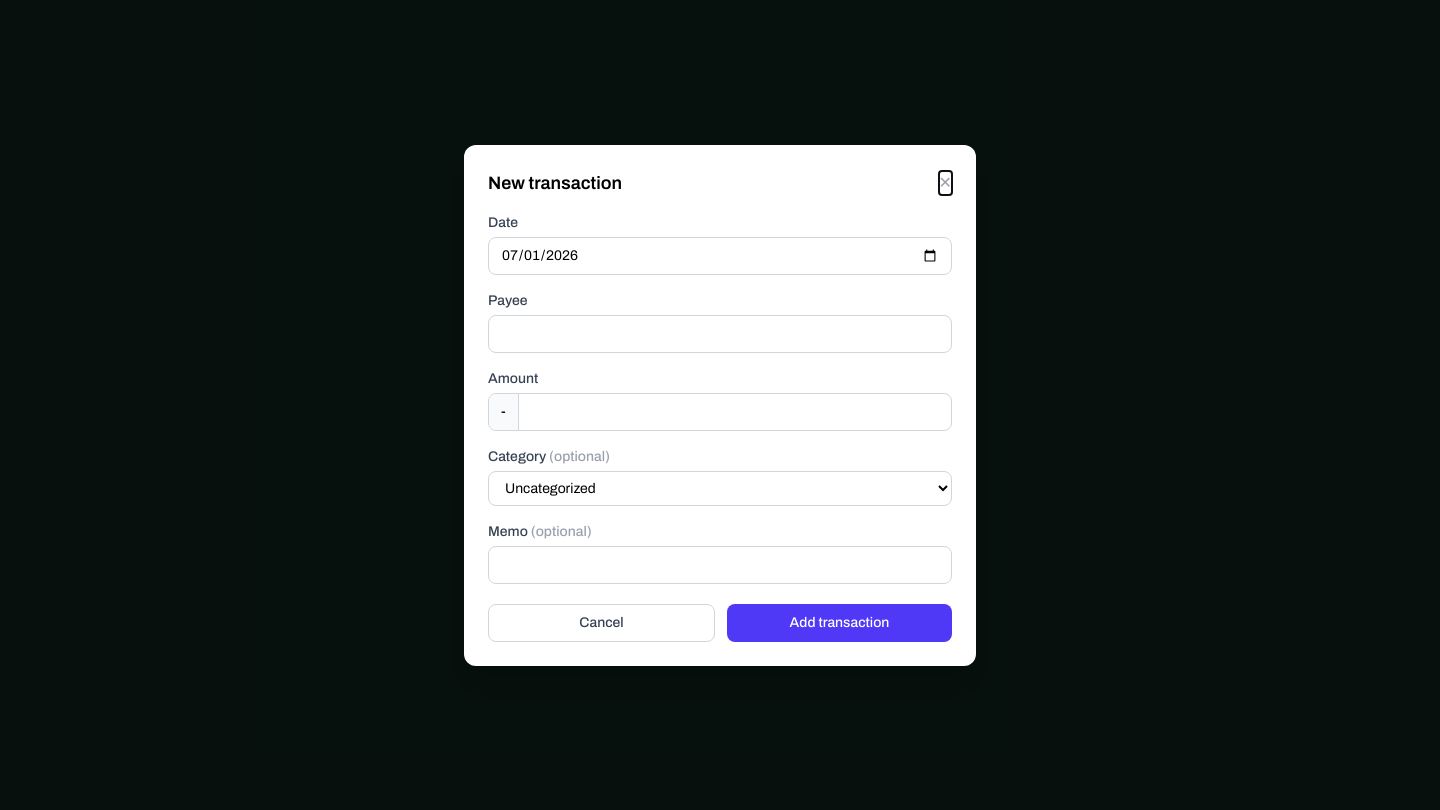
Test: AddTransactionModal › shows validation error when payee is empty
Step 1. Type "50.00" into the field labelled "Amount" → (735, 412), box x1=519 y1=394 x2=951 y2=430
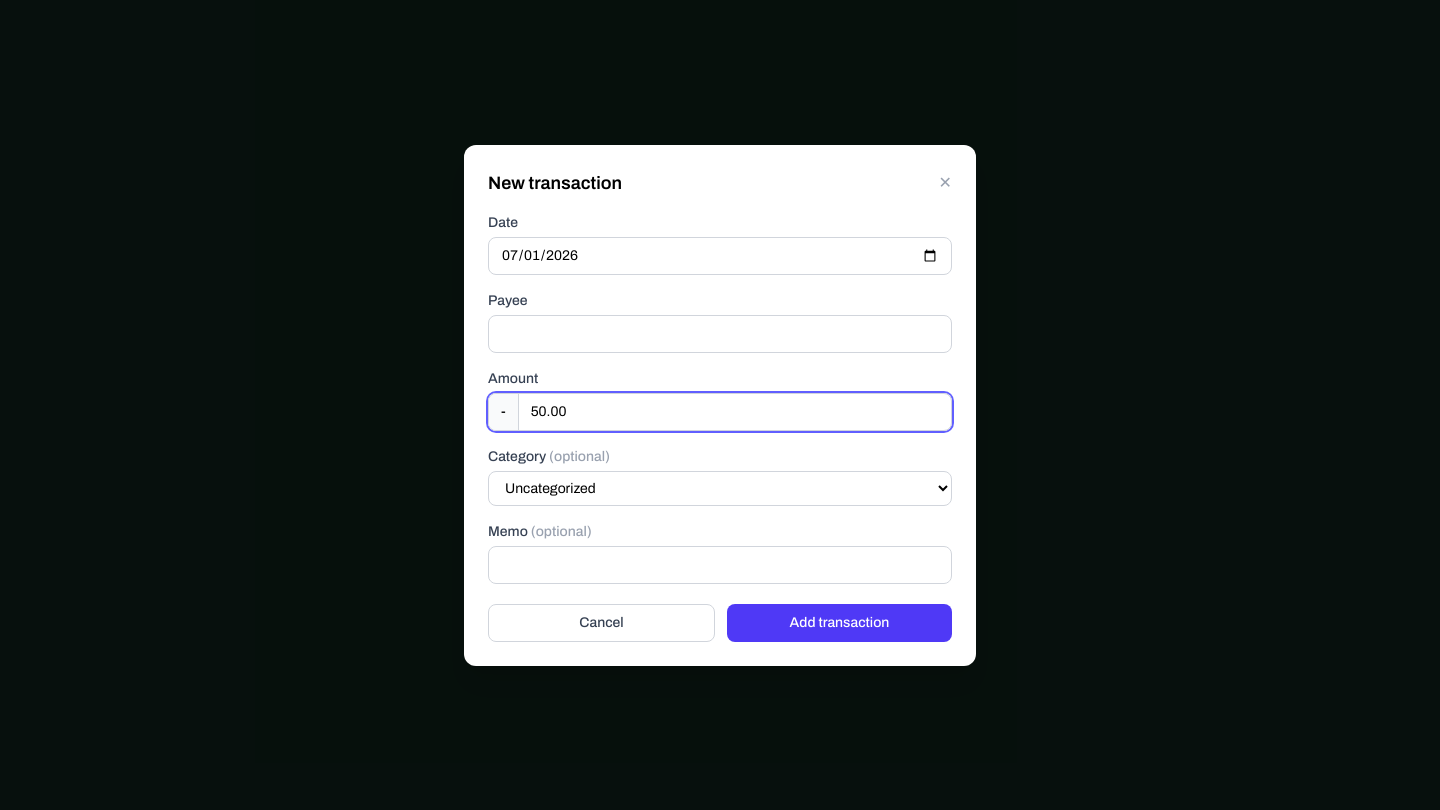
Step 2. Click the button "Add transaction" → click(840, 622), box x1=727 y1=604 x2=952 y2=642
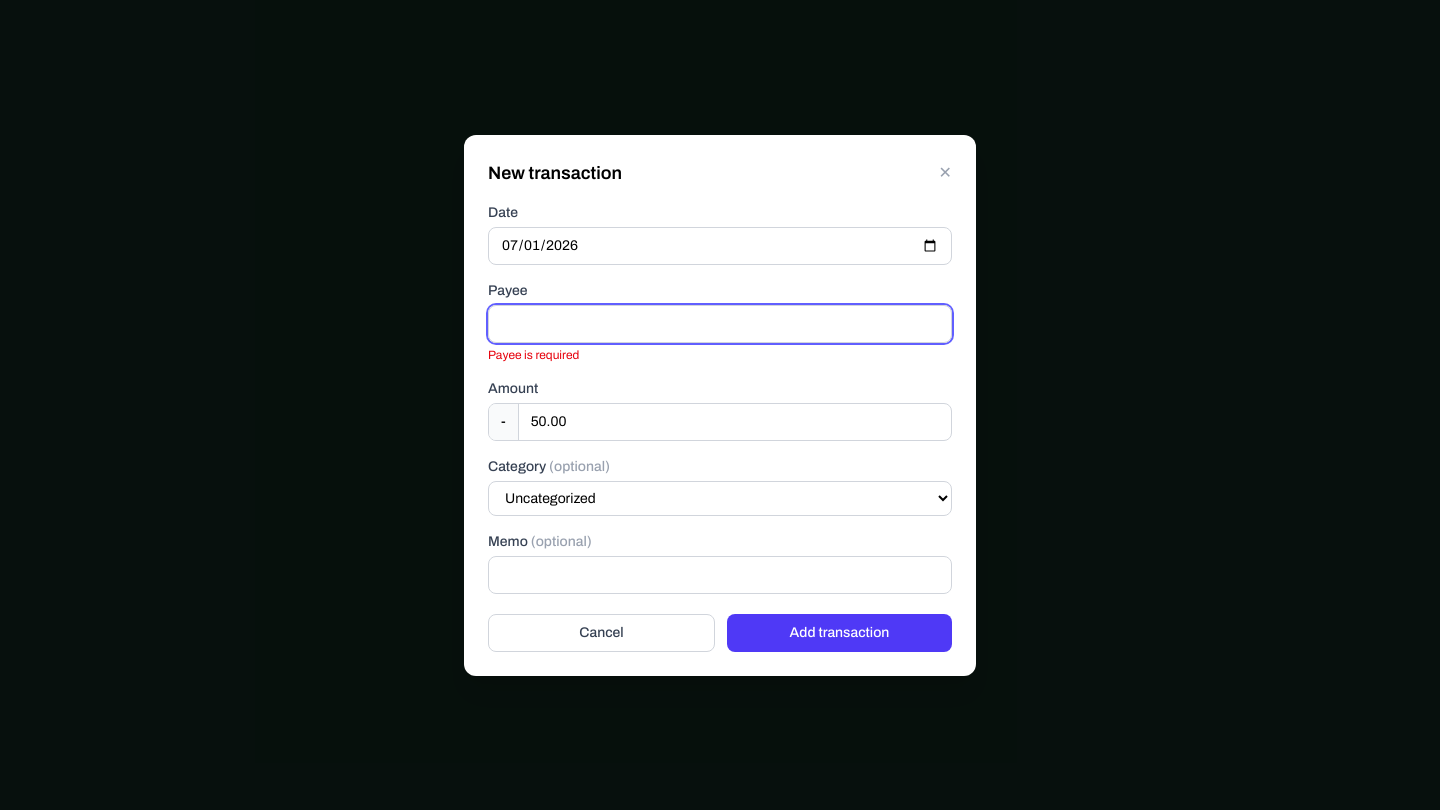
Now the text "Payee is required" is shown, box x1=488 y1=348 x2=579 y2=362
